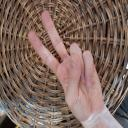PeaceSign: (28, 8, 108, 119)
